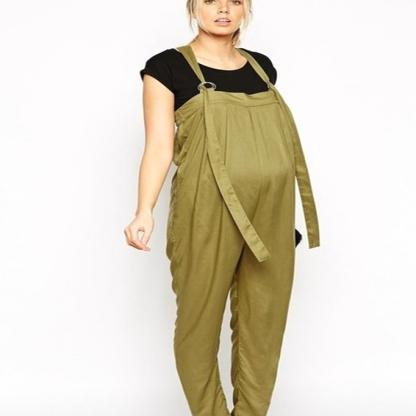dress: (139, 33, 319, 416)
